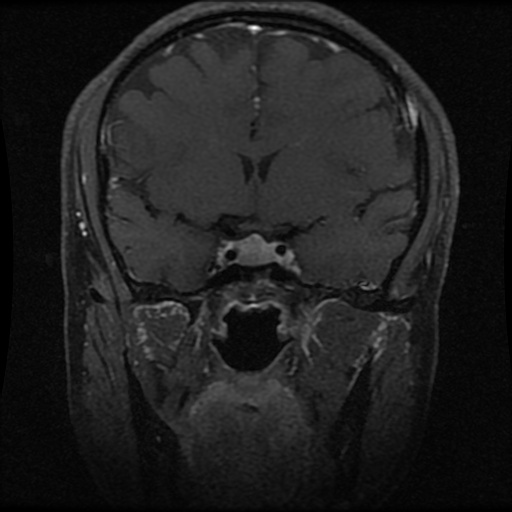pituitary: (239, 234, 275, 264)
